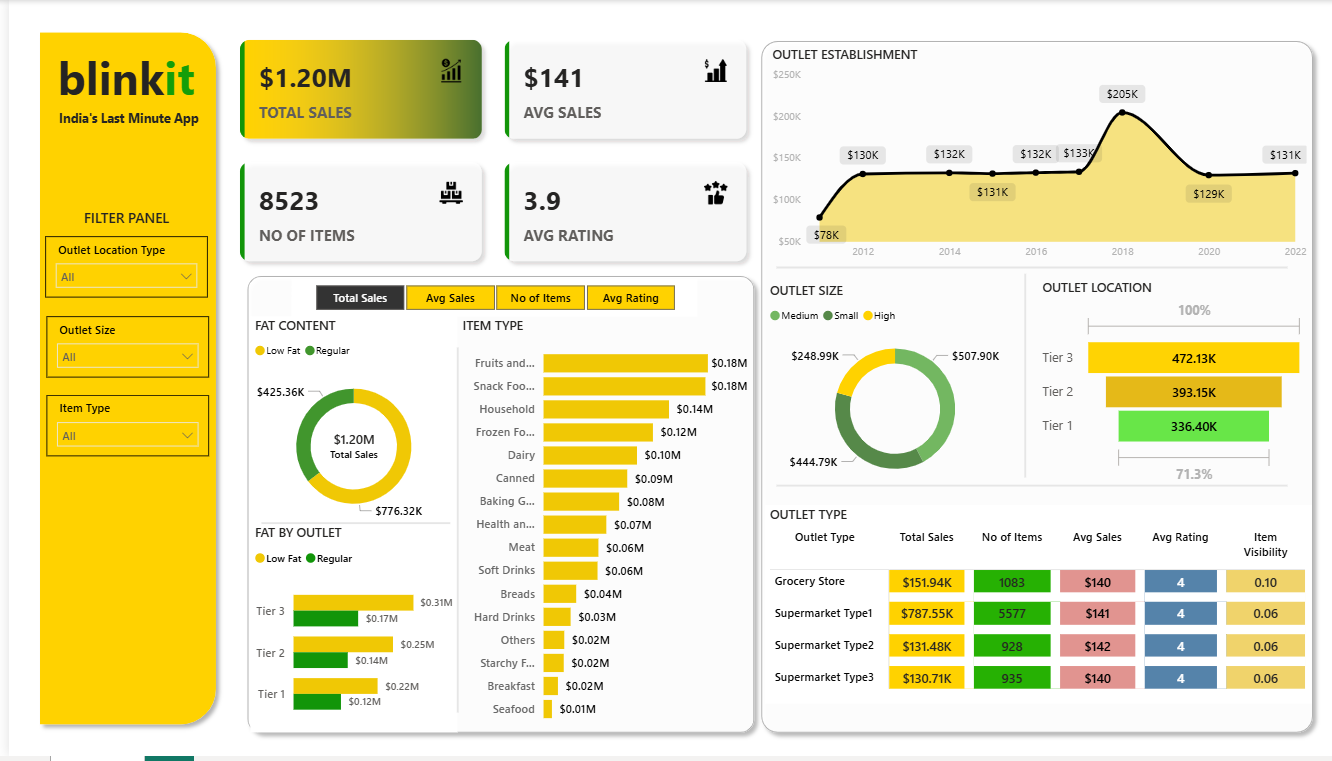

What the dashboard file says about the page in this screenshot:
{"tool":"powerbi","page":{"name":"Page 1","canvas":[1400,800],"ordinal":0},"visuals":[{"type":"shape","box":[24,25.5,204.1,750.4],"z":0},{"type":"textbox","box":[37.5,43.5,174.1,85.5],"z":1000},{"type":"textbox","box":[39,111.1,174.1,34.5],"z":2000},{"type":"cardVisual","fields":{"Data":["BlinkIT Grocery Data.Total Sales","BlinkIT Grocery Data.Avg Sales","BlinkIT Grocery Data.No of Items","BlinkIT Grocery Data.Avg Rating"]},"box":[227.5,25.1,570.1,269.8],"z":3000},{"type":"shape","box":[243.4,283.1,554.2,501.3],"z":4000},{"type":"donutChart","title":"FAT CONTENT","fields":{"Y":["BlinkIT Grocery Data.Total Sales"],"Category":["BlinkIT Grocery Data.Item Fat Content"]},"box":[255.3,334.7,219.6,230.2],"z":5000},{"type":"slicer","fields":{"Values":["Metrics.Metrics"]},"box":[298.9,295,429.9,39.7],"z":6000},{"type":"cardVisual","fields":{"Data":["BlinkIT Grocery Data.Total Sales"]},"box":[313.5,437.8,103.2,67.5],"z":7000},{"type":"clusteredBarChart","title":"FAT BY OUTLET","fields":{"Y":["BlinkIT Grocery Data.Total Sales"],"Category":["BlinkIT Grocery Data.Outlet Location Type"],"Series":["BlinkIT Grocery Data.Item Fat Content"]},"box":[255.3,554.2,219.6,220.9],"z":8000},{"type":"barChart","title":"ITEM TYPE","fields":{"Y":["BlinkIT Grocery Data.Total Sales"],"Category":["BlinkIT Grocery Data.Item Type"]},"box":[474.9,334.7,312.2,440.5],"z":9000},{"type":"shape","box":[787,34.4,601.9,750],"z":10000},{"type":"lineChart","title":"OUTLET ESTABLISHMENT","fields":{"Y":["BlinkIT Grocery Data.Total Sales"],"Category":["BlinkIT Grocery Data.Outlet Establishment Year"]},"box":[802.9,47.6,575.4,235.5],"z":11000},{"type":"donutChart","title":"OUTLET SIZE","fields":{"Y":["BlinkIT Grocery Data.Total Sales"],"Category":["BlinkIT Grocery Data.Outlet Size"]},"box":[800.3,297.6,275.1,224.9],"z":12000},{"type":"funnel","title":"OUTLET LOCATION","fields":{"Category":["BlinkIT Grocery Data.Outlet Location Type"],"Y":["Sum(BlinkIT Grocery Data.Sales)"]},"box":[1088.6,295,287,222.2],"z":13000},{"type":"pivotTable","title":"OUTLET TYPE","fields":{"Rows":["BlinkIT Grocery Data.Outlet Type"],"Values":["BlinkIT Grocery Data.Total Sales","BlinkIT Grocery Data.No of Items","BlinkIT Grocery Data.Avg Sales","BlinkIT Grocery Data.Avg Rating","Avg(BlinkIT Grocery Data.Item Visibility)"]},"box":[800.3,534.4,578,210.3],"z":14000},{"type":"slicer","fields":{"Values":["BlinkIT Grocery Data.Outlet Location Type"]},"box":[38.4,250,172,64.8],"z":15000},{"type":"slicer","fields":{"Values":["BlinkIT Grocery Data.Outlet Size"]},"box":[39.7,334.7,172,64.8],"z":16000},{"type":"slicer","fields":{"Values":["BlinkIT Grocery Data.Item Type"]},"box":[39.7,418,172,64.8],"z":17000},{"type":"textbox","box":[37,215.6,174.6,34.4],"z":17001},{"type":"shape","box":[267.2,542.3,199.7,22.5],"z":17002},{"type":"shape","box":[812.2,271.2,541,23.8],"z":17003},{"type":"shape","box":[812.2,493.4,541,41],"z":17004},{"type":"shape","box":[466.9,367.7,15.9,386.2],"z":17005},{"type":"shape","box":[1067.5,289.7,15.9,215.6],"z":17006}]}

Visuals, with their boxes in screenshot pixels (x1, y1, x2, y2), scaled from the page's 1400x800 canvas onto the 1332x761 screenshot:
shape: bbox(23, 24, 217, 738)
textbox: bbox(36, 41, 201, 123)
textbox: bbox(37, 106, 203, 139)
cardVisual - BlinkIT Grocery Data.Total Sales x BlinkIT Grocery Data.Avg Sales: bbox(216, 24, 759, 281)
shape: bbox(232, 269, 759, 746)
"FAT CONTENT" donutChart: bbox(243, 318, 452, 537)
slicer - Metrics.Metrics: bbox(284, 281, 693, 318)
cardVisual - BlinkIT Grocery Data.Total Sales: bbox(298, 416, 396, 481)
"FAT BY OUTLET" clusteredBarChart: bbox(243, 527, 452, 737)
"ITEM TYPE" barChart: bbox(452, 318, 749, 737)
shape: bbox(749, 33, 1321, 746)
"OUTLET ESTABLISHMENT" lineChart: bbox(764, 45, 1311, 269)
"OUTLET SIZE" donutChart: bbox(761, 283, 1023, 497)
"OUTLET LOCATION" funnel: bbox(1036, 281, 1309, 492)
"OUTLET TYPE" pivotTable: bbox(761, 508, 1311, 708)
slicer - BlinkIT Grocery Data.Outlet Location Type: bbox(37, 238, 200, 299)
slicer - BlinkIT Grocery Data.Outlet Size: bbox(38, 318, 201, 380)
slicer - BlinkIT Grocery Data.Item Type: bbox(38, 398, 201, 459)
textbox: bbox(35, 205, 201, 238)
shape: bbox(254, 516, 444, 537)
shape: bbox(773, 258, 1287, 281)
shape: bbox(773, 469, 1287, 508)
shape: bbox(444, 350, 459, 717)
shape: bbox(1016, 276, 1031, 481)
